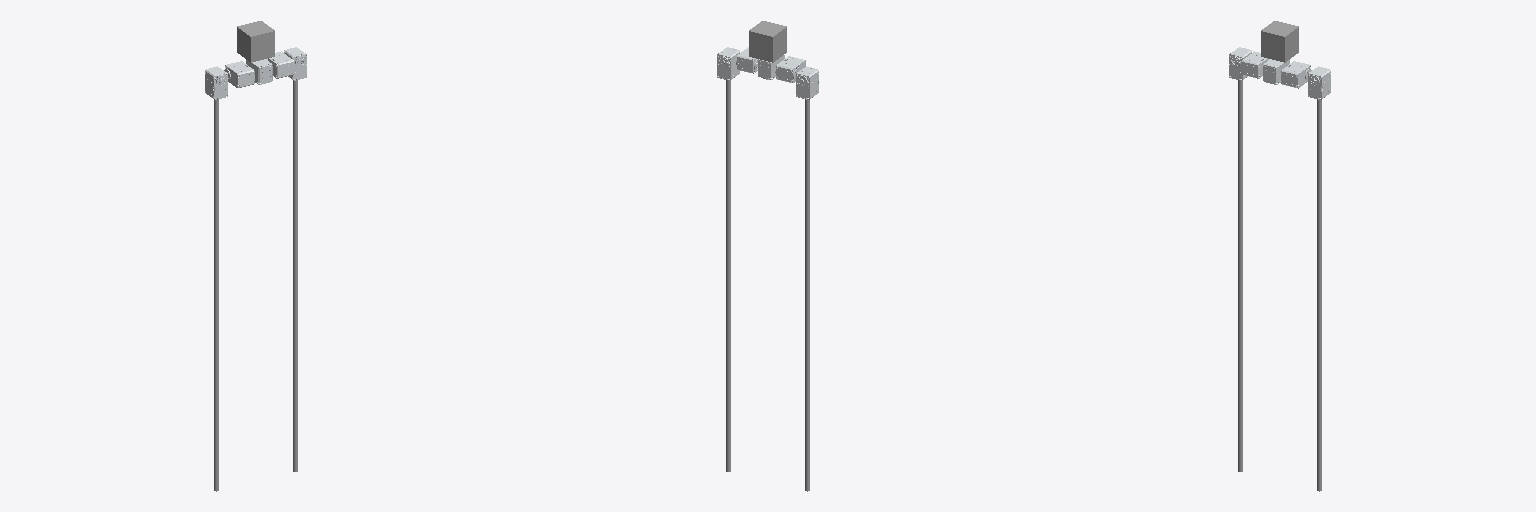
URDF robot description (chopstick_bot):
<?xml version='1.0' encoding='utf-8'?>
<robot name="chopstick_bot">
  <link name="world" />
  <joint name="world_to_base" type="fixed">
    <origin xyz="0.000000 0.000000 0.870000" rpy="0.000000 0.000000 0.000000" />
    <parent link="world" />
    <child link="base_motor_link" />
    </joint>
  <link name="base_motor_link">
    <visual>
      <origin xyz="0.000000 0.000000 0.000000" rpy="0.000000 0.000000 0.000000" />
      <geometry>
        <mesh filename="meshes/XL-430_new_coordinate_on_axis.STL" scale="0.001000 0.001000 0.001000" />
        </geometry>
      <material name="motor_mat">
        <color rgba="0.89804 0.91765 0.92941 1.0" />
        </material>
      </visual>
    <collision>
      <origin xyz="0.000000 -0.012000 0.000000" rpy="0.000000 0.000000 0.000000" />
      <geometry>
        <box size="0.028500 0.046500 0.034000" />
        </geometry>
      </collision>
    <inertial>
      <origin xyz="0.000000 -0.012000 0.000000" rpy="0.000000 0.000000 0.000000" />
      <mass value="0.065000" />
      <inertia ixx="0.000017973854" ixy="0" ixz="0" iyy="0.000010661354" iyz="0" izz="0.000016111875" />
      </inertial>
    </link>
  <link name="l_hip_pitch">
    <visual>
      <origin xyz="0.000000 0.000000 0.000000" rpy="0.000000 0.000000 0.000000" />
      <geometry>
        <mesh filename="meshes/XL-430_new_coordinate_on_axis.STL" scale="0.001000 0.001000 0.001000" />
        </geometry>
      <material name="motor_mat">
        <color rgba="0.89804 0.91765 0.92941 1.0" />
        </material>
      </visual>
    <collision>
      <origin xyz="0.000000 -0.012000 0.000000" rpy="0.000000 0.000000 0.000000" />
      <geometry>
        <box size="0.028500 0.046500 0.034000" />
        </geometry>
      </collision>
    <inertial>
      <origin xyz="0.000000 -0.012000 0.000000" rpy="0.000000 0.000000 0.000000" />
      <mass value="0.065000" />
      <inertia ixx="0.000017973854" ixy="0" ixz="0" iyy="0.000010661354" iyz="0" izz="0.000016111875" />
      </inertial>
    </link>
  <link name="l_hip_pitch_out">
    <inertial>
      <origin xyz="0.000000 0.000000 0.000000" rpy="0.000000 0.000000 0.000000" />
      <mass value="0.001000" />
      <inertia ixx="0.000000016667" ixy="0" ixz="0" iyy="0.000000016667" iyz="0" izz="0.000000016667" />
      </inertial>
    </link>
  <joint name="l_hip_pitch_mount_fixed" type="fixed">
    <origin xyz="-0.040000 0.000000 0.000000" rpy="0.000000 -1.570796 0.000000" />
    <parent link="base_motor_link" />
    <child link="l_hip_pitch" />
    </joint>
  <joint name="l_hip_pitch_joint" type="revolute">
    <origin xyz="0.000000 0.000000 0.000000" rpy="0.000000 0.000000 0.000000" />
    <parent link="l_hip_pitch" />
    <child link="l_hip_pitch_out" />
    <axis xyz="0.000000 0.000000 1.000000" />
    <limit lower="-3.14159" upper="3.14159" effort="5.0" velocity="8.0" />
    </joint>
  <link name="l_hip_roll">
    <visual>
      <origin xyz="0.000000 0.000000 0.000000" rpy="0.000000 0.000000 0.000000" />
      <geometry>
        <mesh filename="meshes/XL-430_new_coordinate_on_axis.STL" scale="0.001000 0.001000 0.001000" />
        </geometry>
      <material name="motor_mat">
        <color rgba="0.89804 0.91765 0.92941 1.0" />
        </material>
      </visual>
    <collision>
      <origin xyz="0.000000 -0.012000 0.000000" rpy="0.000000 0.000000 0.000000" />
      <geometry>
        <box size="0.028500 0.046500 0.034000" />
        </geometry>
      </collision>
    <inertial>
      <origin xyz="0.000000 -0.012000 0.000000" rpy="0.000000 0.000000 0.000000" />
      <mass value="0.065000" />
      <inertia ixx="0.000017973854" ixy="0" ixz="0" iyy="0.000010661354" iyz="0" izz="0.000016111875" />
      </inertial>
    </link>
  <link name="l_hip_roll_out">
    <inertial>
      <origin xyz="0.000000 0.000000 0.000000" rpy="0.000000 0.000000 0.000000" />
      <mass value="0.001000" />
      <inertia ixx="0.000000016667" ixy="0" ixz="0" iyy="0.000000016667" iyz="0" izz="0.000000016667" />
      </inertial>
    </link>
  <joint name="l_hip_roll_mount_fixed" type="fixed">
    <origin xyz="0.000000 0.000000 0.040000" rpy="0.000000 -1.570796 -1.570796" />
    <parent link="l_hip_pitch_out" />
    <child link="l_hip_roll" />
    </joint>
  <joint name="l_hip_roll_joint" type="revolute">
    <origin xyz="0.000000 0.000000 0.000000" rpy="0.000000 0.000000 0.000000" />
    <parent link="l_hip_roll" />
    <child link="l_hip_roll_out" />
    <axis xyz="0.000000 0.000000 1.000000" />
    <limit lower="-3.14159" upper="3.14159" effort="5.0" velocity="8.0" />
    </joint>
  <link name="l_end_effector">
    <visual>
      <origin xyz="0.000000 0.000000 0.000000" rpy="1.570796 0.000000 0.000000" />
      <geometry>
        <cylinder radius="0.005000" length="0.800000" />
        </geometry>
      <material name="cylinder_mat">
        <color rgba="0.7 0.7 0.7 1.0" />
        </material>
      </visual>
    <collision>
      <origin xyz="0.000000 -0.400000 0.000000" rpy="0.000000 0.000000 0.000000" />
      <geometry>
        <box size="0.020000 0.020000 0.020000" />
        </geometry>
      </collision>
    <inertial>
      <origin xyz="0.000000 0.000000 0.000000" rpy="0.000000 0.000000 0.000000" />
      <mass value="0.031416" />
      <inertia ixx="0.001675712431" ixy="0" ixz="0" iyy="0.001675712431" iyz="0" izz="0.000000392699" />
      </inertial>
    </link>
  <joint name="l_end_effector_fixed" type="fixed">
    <origin xyz="0.000000 -0.400000 0.000000" rpy="0.000000 0.000000 0.000000" />
    <parent link="l_hip_roll_out" />
    <child link="l_end_effector" />
    </joint>
  <link name="r_hip_pitch">
    <visual>
      <origin xyz="0.000000 0.000000 0.000000" rpy="0.000000 0.000000 0.000000" />
      <geometry>
        <mesh filename="meshes/XL-430_new_coordinate_on_axis.STL" scale="0.001000 0.001000 0.001000" />
        </geometry>
      <material name="motor_mat">
        <color rgba="0.89804 0.91765 0.92941 1.0" />
        </material>
      </visual>
    <collision>
      <origin xyz="0.000000 -0.012000 0.000000" rpy="0.000000 0.000000 0.000000" />
      <geometry>
        <box size="0.028500 0.046500 0.034000" />
        </geometry>
      </collision>
    <inertial>
      <origin xyz="0.000000 -0.012000 0.000000" rpy="0.000000 0.000000 0.000000" />
      <mass value="0.065000" />
      <inertia ixx="0.000017973854" ixy="0" ixz="0" iyy="0.000010661354" iyz="0" izz="0.000016111875" />
      </inertial>
    </link>
  <link name="r_hip_pitch_out">
    <inertial>
      <origin xyz="0.000000 0.000000 0.000000" rpy="0.000000 0.000000 0.000000" />
      <mass value="0.001000" />
      <inertia ixx="0.000000016667" ixy="0" ixz="0" iyy="0.000000016667" iyz="0" izz="0.000000016667" />
      </inertial>
    </link>
  <joint name="r_hip_pitch_mount_fixed" type="fixed">
    <origin xyz="0.040000 0.000000 0.000000" rpy="0.000000 1.570796 -0.000000" />
    <parent link="base_motor_link" />
    <child link="r_hip_pitch" />
    </joint>
  <joint name="r_hip_pitch_joint" type="revolute">
    <origin xyz="0.000000 0.000000 0.000000" rpy="0.000000 0.000000 0.000000" />
    <parent link="r_hip_pitch" />
    <child link="r_hip_pitch_out" />
    <axis xyz="0.000000 0.000000 1.000000" />
    <limit lower="-3.14159" upper="3.14159" effort="5.0" velocity="8.0" />
    </joint>
  <link name="r_hip_roll">
    <visual>
      <origin xyz="0.000000 0.000000 0.000000" rpy="0.000000 0.000000 0.000000" />
      <geometry>
        <mesh filename="meshes/XL-430_new_coordinate_on_axis.STL" scale="0.001000 0.001000 0.001000" />
        </geometry>
      <material name="motor_mat">
        <color rgba="0.89804 0.91765 0.92941 1.0" />
        </material>
      </visual>
    <collision>
      <origin xyz="0.000000 -0.012000 0.000000" rpy="0.000000 0.000000 0.000000" />
      <geometry>
        <box size="0.028500 0.046500 0.034000" />
        </geometry>
      </collision>
    <inertial>
      <origin xyz="0.000000 -0.012000 0.000000" rpy="0.000000 0.000000 0.000000" />
      <mass value="0.065000" />
      <inertia ixx="0.000017973854" ixy="0" ixz="0" iyy="0.000010661354" iyz="0" izz="0.000016111875" />
      </inertial>
    </link>
  <link name="r_hip_roll_out">
    <inertial>
      <origin xyz="0.000000 0.000000 0.000000" rpy="0.000000 0.000000 0.000000" />
      <mass value="0.001000" />
      <inertia ixx="0.000000016667" ixy="0" ixz="0" iyy="0.000000016667" iyz="0" izz="0.000000016667" />
      </inertial>
    </link>
  <joint name="r_hip_roll_mount_fixed" type="fixed">
    <origin xyz="-0.000000 0.000000 0.040000" rpy="0.000000 1.570796 1.570796" />
    <parent link="r_hip_pitch_out" />
    <child link="r_hip_roll" />
    </joint>
  <joint name="r_hip_roll_joint" type="revolute">
    <origin xyz="0.000000 0.000000 0.000000" rpy="0.000000 0.000000 0.000000" />
    <parent link="r_hip_roll" />
    <child link="r_hip_roll_out" />
    <axis xyz="0.000000 0.000000 1.000000" />
    <limit lower="-3.14159" upper="3.14159" effort="5.0" velocity="8.0" />
    </joint>
  <link name="r_end_effector">
    <visual>
      <origin xyz="0.000000 0.000000 0.000000" rpy="1.570796 0.000000 0.000000" />
      <geometry>
        <cylinder radius="0.005000" length="0.800000" />
        </geometry>
      <material name="cylinder_mat">
        <color rgba="0.7 0.7 0.7 1.0" />
        </material>
      </visual>
    <collision>
      <origin xyz="0.000000 -0.400000 0.000000" rpy="0.000000 0.000000 0.000000" />
      <geometry>
        <box size="0.020000 0.020000 0.020000" />
        </geometry>
      </collision>
    <inertial>
      <origin xyz="0.000000 0.000000 0.000000" rpy="0.000000 0.000000 0.000000" />
      <mass value="0.031416" />
      <inertia ixx="0.001675712431" ixy="0" ixz="0" iyy="0.001675712431" iyz="0" izz="0.000000392699" />
      </inertial>
    </link>
  <joint name="r_end_effector_fixed" type="fixed">
    <origin xyz="-0.000000 -0.400000 0.000000" rpy="0.000000 -0.000000 0.000000" />
    <parent link="r_hip_roll_out" />
    <child link="r_end_effector" />
    </joint>
  <link name="trunk_link">
    <visual>
      <origin xyz="0.000000 0.000000 0.000000" rpy="0.000000 0.000000 0.000000" />
      <geometry>
        <box size="0.050000 0.050000 0.050000" />
        </geometry>
      <material name="box_mat">
        <color rgba="0.7 0.7 0.7 1.0" />
        </material>
      </visual>
    <collision>
      <origin xyz="0.000000 0.000000 0.000000" rpy="0.000000 0.000000 0.000000" />
      <geometry>
        <box size="0.050000 0.050000 0.050000" />
        </geometry>
      </collision>
    <inertial>
      <origin xyz="0.000000 0.000000 0.000000" rpy="0.000000 0.000000 0.000000" />
      <mass value="0.200000" />
      <inertia ixx="0.000083333333" ixy="0" ixz="0" iyy="0.000083333333" iyz="0" izz="0.000083333333" />
      </inertial>
    </link>
  <joint name="base_to_trunk" type="revolute">
    <origin xyz="0.000000 0.000000 0.050000" rpy="0.000000 0.000000 0.000000" />
    <parent link="base_motor_link" />
    <child link="trunk_link" />
    <axis xyz="0.000000 0.000000 1.000000" />
    <limit lower="-3.14159" upper="3.14159" effort="5.0" velocity="8.0" />
    </joint>
  </robot>

--- What the picture shows (computed from the rendered views, not written in the file) ---
Views: 3 orthographic renders of the robot side by side, from view 1: azimuth 30°, elevation 25°; view 2: azimuth 150°, elevation 25°; view 3: azimuth 330°, elevation 25°.
Model chopstick_bot with 13 links and 12 joints (5 revolute, 7 fixed), rooted at world, posed all joints at 0.
Visible links, largest first — view 1: r_end_effector, l_end_effector, trunk_link, l_hip_roll, l_hip_pitch; view 2: r_end_effector, l_end_effector, trunk_link, l_hip_roll, r_hip_roll, l_hip_pitch; view 3: l_end_effector, r_end_effector, trunk_link, r_hip_roll, r_hip_pitch.
Boxes of the visible links, x1=… form: r_end_effector: x1=293, y1=80, x2=297, y2=471; l_end_effector: x1=214, y1=99, x2=218, y2=491; trunk_link: x1=237, y1=21, x2=274, y2=62; l_hip_roll: x1=205, y1=66, x2=227, y2=99; l_hip_pitch: x1=224, y1=61, x2=254, y2=87; r_end_effector: x1=726, y1=80, x2=730, y2=471; l_end_effector: x1=805, y1=99, x2=809, y2=491; trunk_link: x1=749, y1=21, x2=786, y2=62; l_hip_roll: x1=796, y1=66, x2=818, y2=99; r_hip_roll: x1=717, y1=47, x2=739, y2=80; l_hip_pitch: x1=775, y1=56, x2=805, y2=82; l_end_effector: x1=1238, y1=80, x2=1242, y2=471; r_end_effector: x1=1317, y1=99, x2=1321, y2=491; trunk_link: x1=1261, y1=21, x2=1298, y2=62; r_hip_roll: x1=1308, y1=66, x2=1330, y2=99; r_hip_pitch: x1=1281, y1=61, x2=1311, y2=88.
Bounding box of the posed robot: 0.1885 × 0.0602 × 0.875 m (x, y, z).
5 mesh visuals loaded from 1 distinct referenced files (1 binary STL).
